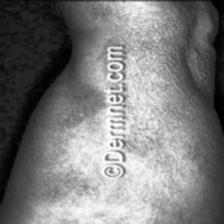Potentially Malignant Skin Tumors: (125, 12, 212, 154)
